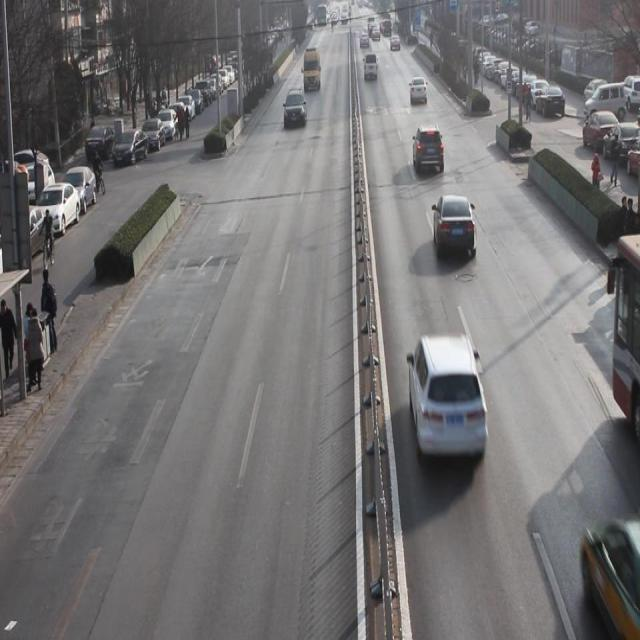car: (405, 333, 490, 471), (430, 191, 477, 263), (412, 129, 447, 178), (282, 90, 308, 128), (410, 77, 429, 109)
truck: (303, 46, 323, 90), (364, 50, 379, 86)
van: (611, 234, 640, 432)
